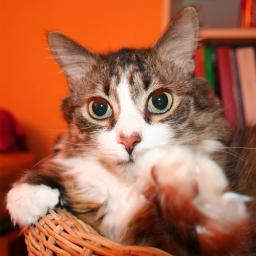catnose: (116, 135, 142, 154)
